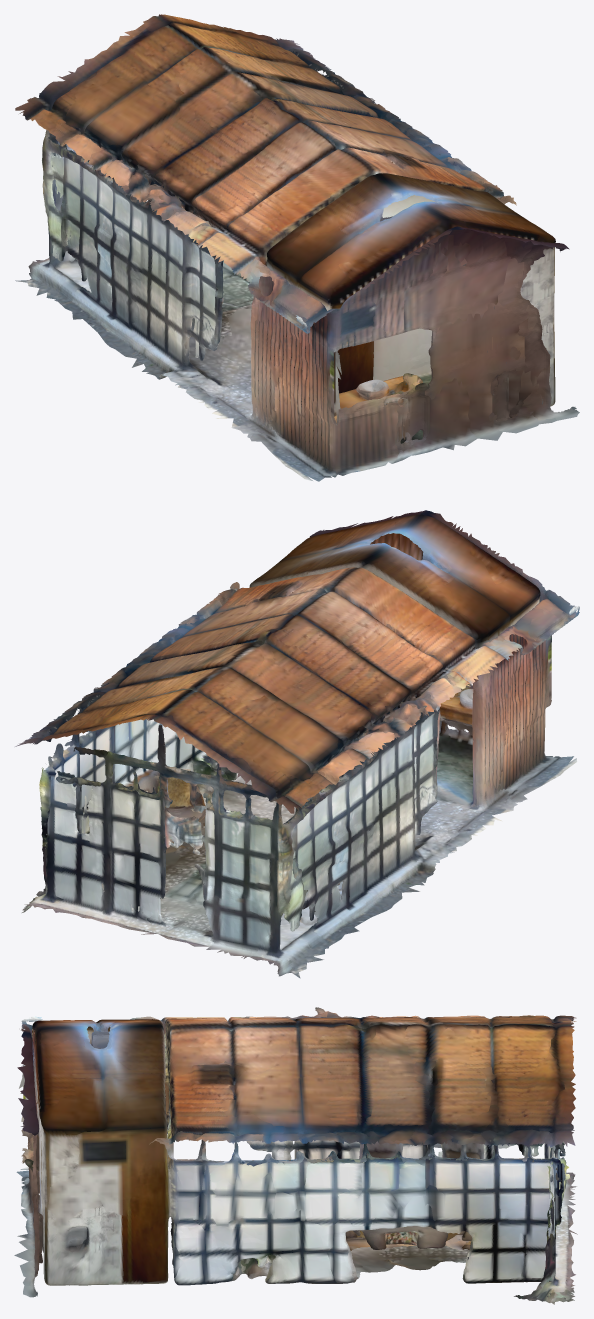
Rendered from suite.glb.
3 renders of one model, top to bottom at view 1: azimuth 30°, elevation 25°; view 2: azimuth 150°, elevation 25°; view 3: azimuth 270°, elevation 25°, orthographic. The views are drawn at different scales.
Parts seen in each view (by area): view 1: escaneo_suite; view 2: escaneo_suite; view 3: escaneo_suite.
Part boxes in pixels (box(x1,y1,x2,y2)): escaneo_suite: box(15, 14, 579, 481); escaneo_suite: box(15, 510, 579, 978); escaneo_suite: box(14, 1007, 577, 1304).
Size of the model in its own units: 4.5 by 3.43 by 8.07.
Materials: 1 (1 with a texture image).
